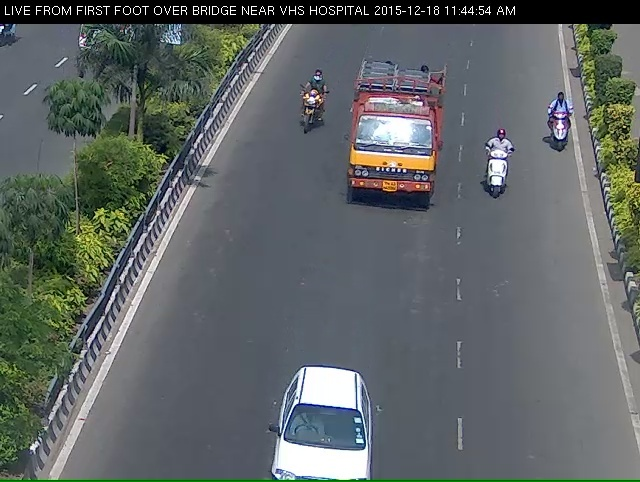Bus: (338, 57, 449, 231)
Car: (262, 401, 381, 481)
Person: (478, 139, 519, 213), (283, 73, 317, 145), (545, 93, 579, 161)
